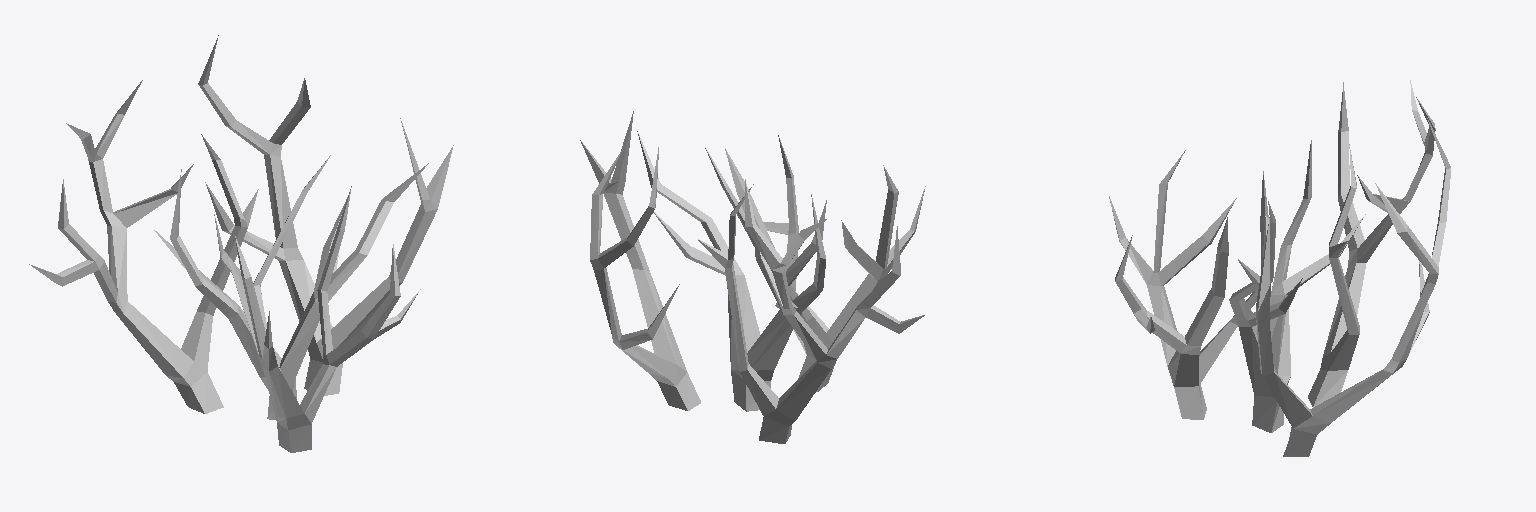
File: T4_grass.obj
3 views of the same model, side by side, from view 1: azimuth 30°, elevation 25°; view 2: azimuth 150°, elevation 25°; view 3: azimuth 270°, elevation 25° (orthographic).
Parts seen in each view (by area): view 1: Bush_average_bare_Plane.016; view 2: Bush_average_bare_Plane.016; view 3: Bush_average_bare_Plane.016.
Boxes of the visible parts, x1=… form: Bush_average_bare_Plane.016: x1=29, y1=35, x2=453, y2=452; Bush_average_bare_Plane.016: x1=580, y1=111, x2=925, y2=443; Bush_average_bare_Plane.016: x1=1109, y1=80, x2=1450, y2=456.
Bounding box in the file's own units: 4.26 × 3.36 × 3.28.